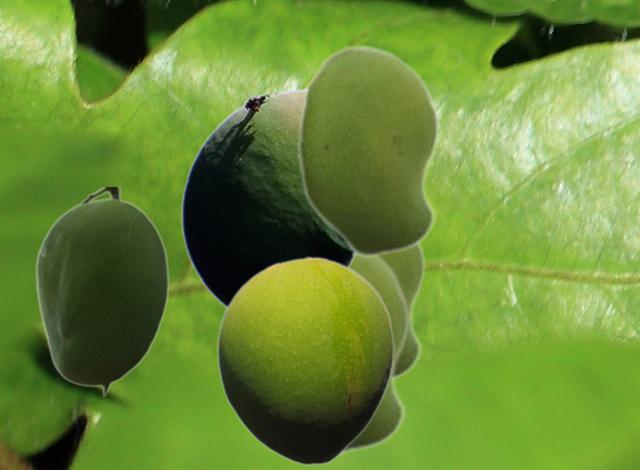green_mango: (180, 87, 355, 308), (216, 256, 394, 465), (297, 44, 439, 258), (34, 187, 168, 396), (342, 256, 409, 455), (383, 243, 425, 381)
